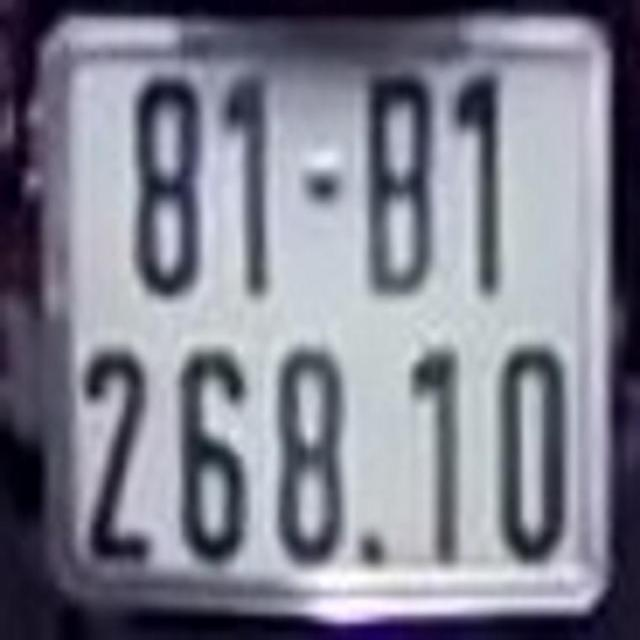0: (491, 338, 573, 562)
1: (402, 338, 477, 569), (217, 76, 291, 298), (450, 62, 513, 308)
2: (80, 345, 140, 584)
6: (175, 344, 253, 564)
8: (273, 340, 347, 566), (132, 78, 205, 296)
B: (358, 62, 441, 300)
